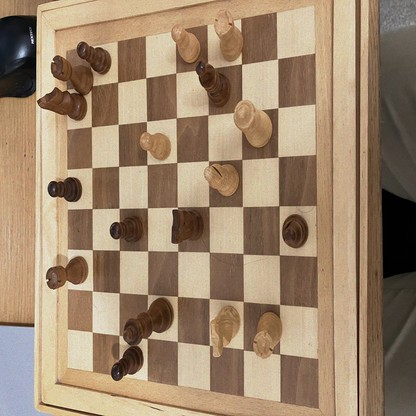bishop_black: (195, 63, 232, 105)
bishop_white: (204, 164, 239, 197)
knight_black: (37, 89, 88, 120), (171, 209, 203, 244)
knight_white: (211, 307, 241, 357)
pawn_black: (112, 346, 143, 379), (78, 42, 111, 72), (110, 215, 143, 243), (282, 214, 308, 248), (49, 177, 82, 201)
pawn_white: (173, 25, 201, 63), (140, 132, 171, 160)
queen_black: (122, 299, 174, 344)
queen_white: (234, 101, 273, 147)
rock_black: (51, 55, 93, 94), (46, 256, 89, 290)
rock_white: (214, 10, 243, 62), (253, 312, 283, 358)
